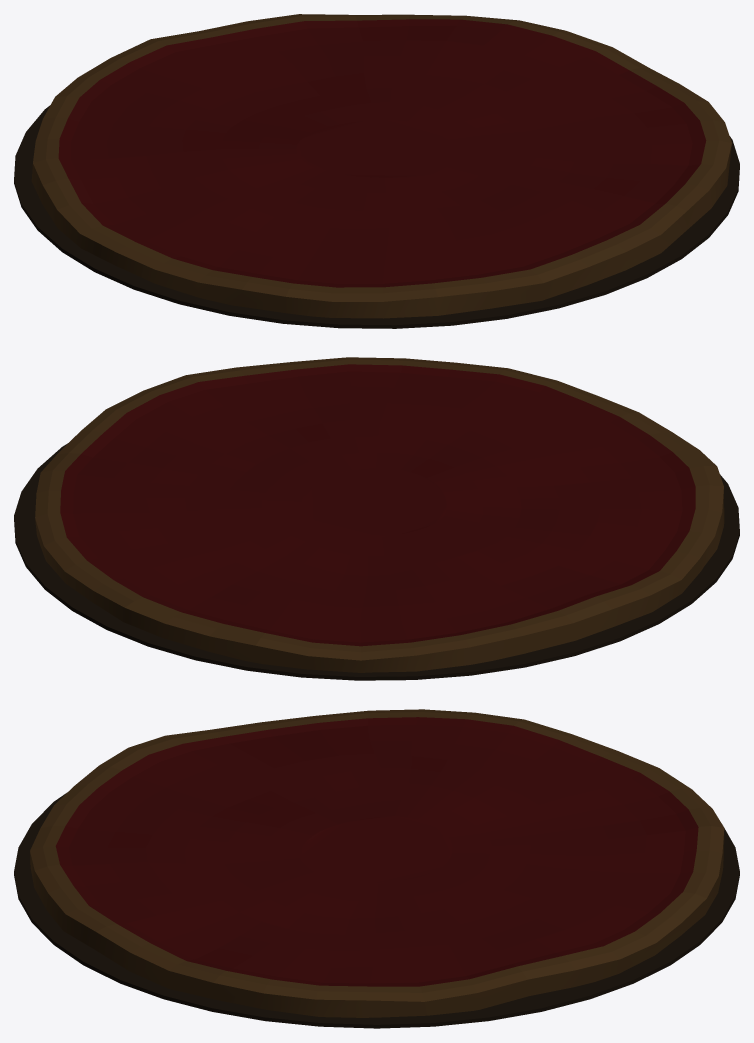
The model's file is pizza.fbx.
3 views of the same model, one above another, from view 1: azimuth 30°, elevation 25°; view 2: azimuth 150°, elevation 25°; view 3: azimuth 270°, elevation 25° (orthographic).
Visible parts, largest first — view 1: pizza; view 2: pizza; view 3: pizza.
Part boxes in pixels (x1,y1,x2,y2): pizza: (14,14,739,328); pizza: (14,357,739,680); pizza: (14,709,739,1028).
Size of the model in its own units: 44.01 by 2.01 by 44.01.
